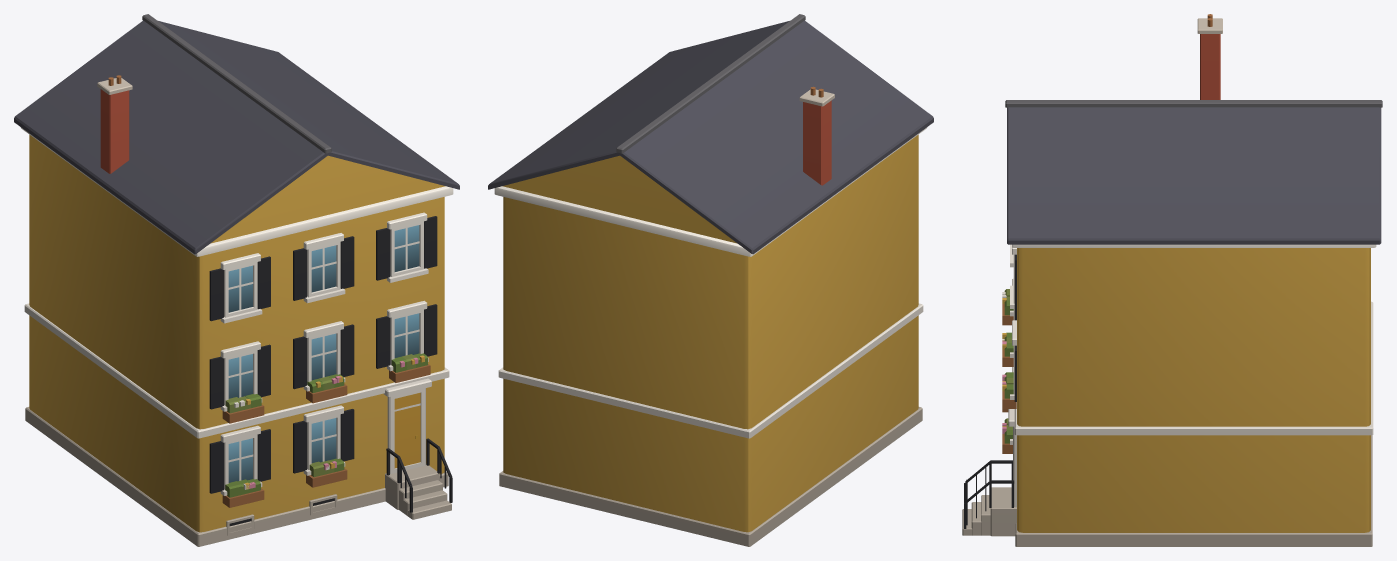
Rendered from beacon_n2.glb.
The picture shows the model from 3 angles, left to right: view 1: azimuth 30°, elevation 25°; view 2: azimuth 150°, elevation 25°; view 3: azimuth 270°, elevation 25°; orthographic projection. The views are drawn at different scales.
Visible parts, largest first — view 1: beacon_n2; view 2: beacon_n2; view 3: beacon_n2.
Part boxes in pixels (<box>): beacon_n2: <box>14,14,459,546</box>; beacon_n2: <box>488,14,933,546</box>; beacon_n2: <box>962,14,1382,546</box>.
Bounding box in the file's own units: 10.7 × 15.32 × 14.26.
Materials: 1 (1 with a texture image).
